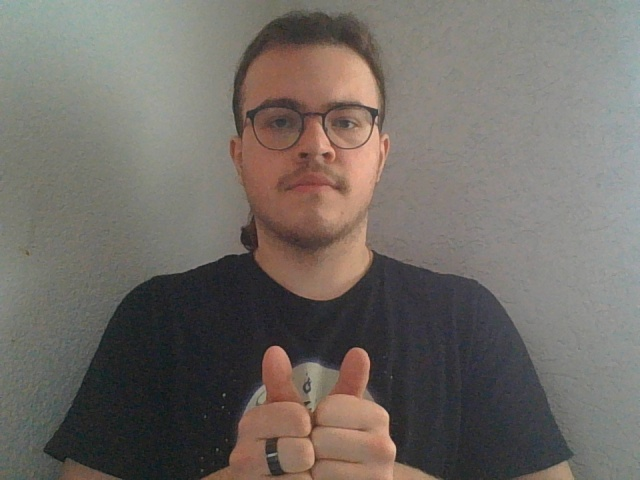Agree: (228, 343, 399, 480)
